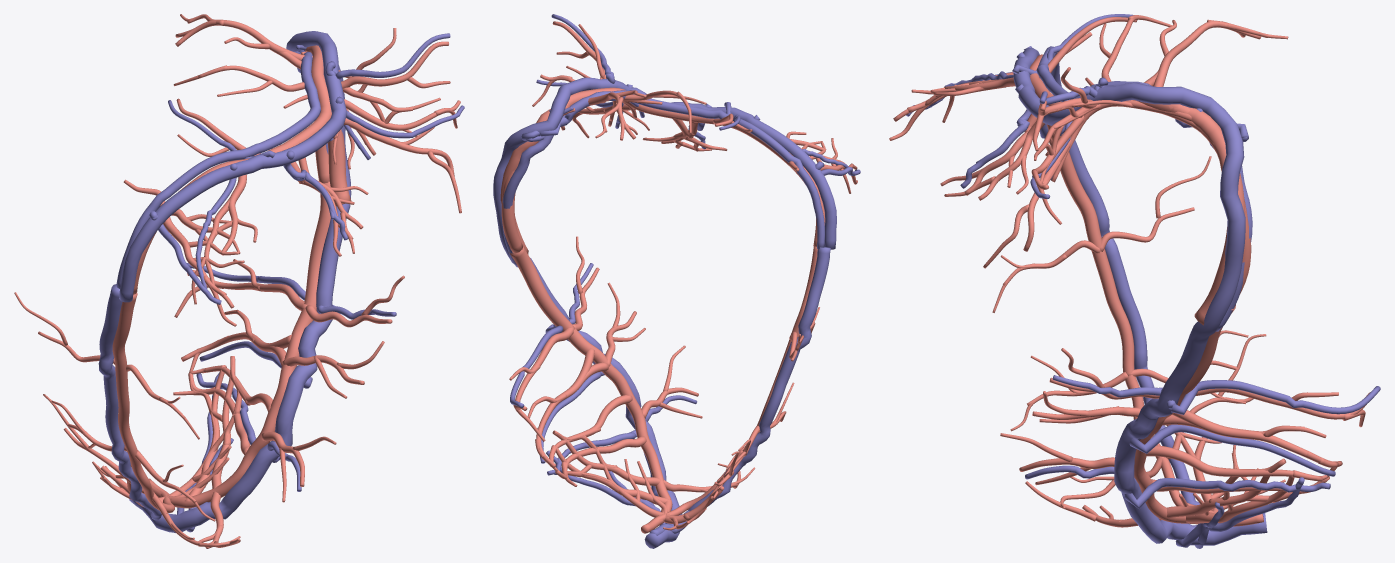
File: vessels_50.glb
3 renders of one model, left to right at view 1: azimuth 30°, elevation 25°; view 2: azimuth 150°, elevation 25°; view 3: azimuth 270°, elevation 25°, orthographic. The views are drawn at different scales.
Visible parts, largest first — view 1: Renderer Node; view 2: Renderer Node; view 3: Renderer Node.
Part boxes in pixels (bbox=[...]): Renderer Node: bbox=[14, 14, 464, 548]; Renderer Node: bbox=[493, 14, 860, 548]; Renderer Node: bbox=[889, 14, 1380, 548].
Size of the model in its own units: 94.79 by 122 by 95.34.
